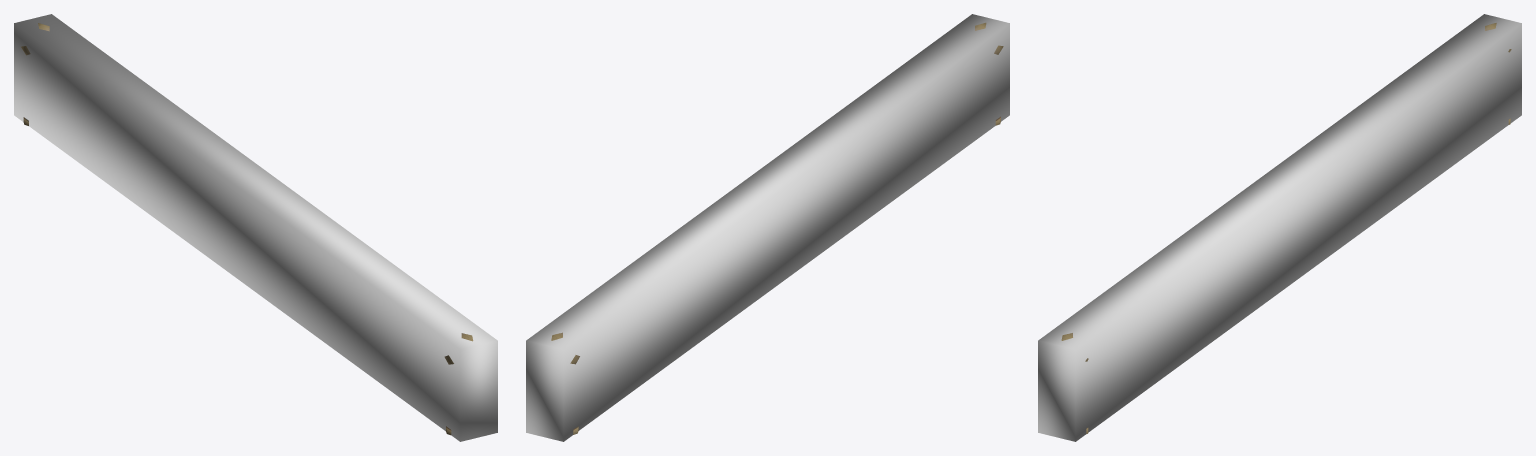
Rendered from SM_DisplayCaseRailing_B.fbx.
3 views of the same model, side by side, from view 1: azimuth 30°, elevation 25°; view 2: azimuth 150°, elevation 25°; view 3: azimuth 330°, elevation 25° (orthographic).
Parts seen in each view (by area): view 1: SM_DisplayCaseRailing_B_ConvexHulls; view 2: SM_DisplayCaseRailing_B_ConvexHulls; view 3: SM_DisplayCaseRailing_B_ConvexHulls.
Boxes of the visible parts, x1,y1,x2,y2 form: SM_DisplayCaseRailing_B_ConvexHulls: [14, 14, 497, 441]; SM_DisplayCaseRailing_B_ConvexHulls: [526, 14, 1009, 441]; SM_DisplayCaseRailing_B_ConvexHulls: [1038, 14, 1521, 441].
Size of what is drawn, in the model's own units: 3.51 by 7.9 by 67.57.
